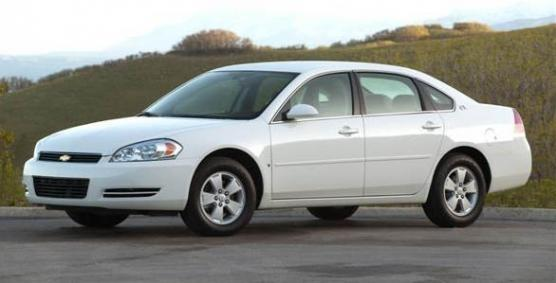car: (24, 55, 539, 241)
